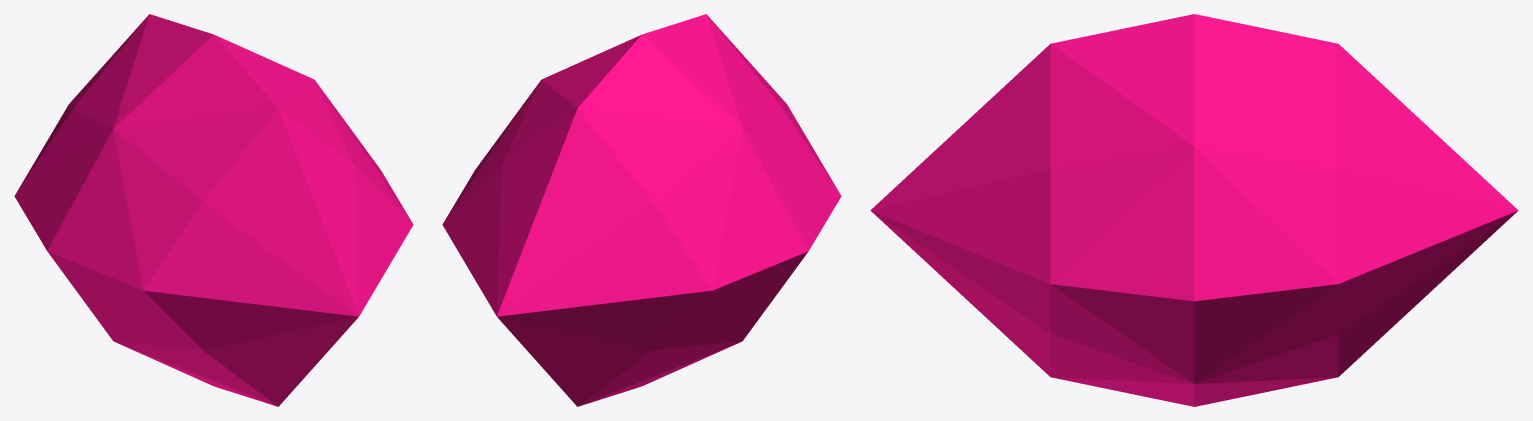
The model's file is CrystalMagenta.obj.
3 views of the same model, side by side, from view 1: azimuth 30°, elevation 25°; view 2: azimuth 150°, elevation 25°; view 3: azimuth 270°, elevation 25° (orthographic). The views are drawn at different scales.
Parts seen in each view (by area): view 1: CrystalMagenta; view 2: CrystalMagenta; view 3: CrystalMagenta.
Part boxes in pixels (x1,y1,x2,y2): CrystalMagenta: [14, 14, 413, 406]; CrystalMagenta: [442, 14, 841, 406]; CrystalMagenta: [870, 14, 1518, 406].
Bounding box in the file's own units: 0.8962 × 0.9034 × 1.35.
